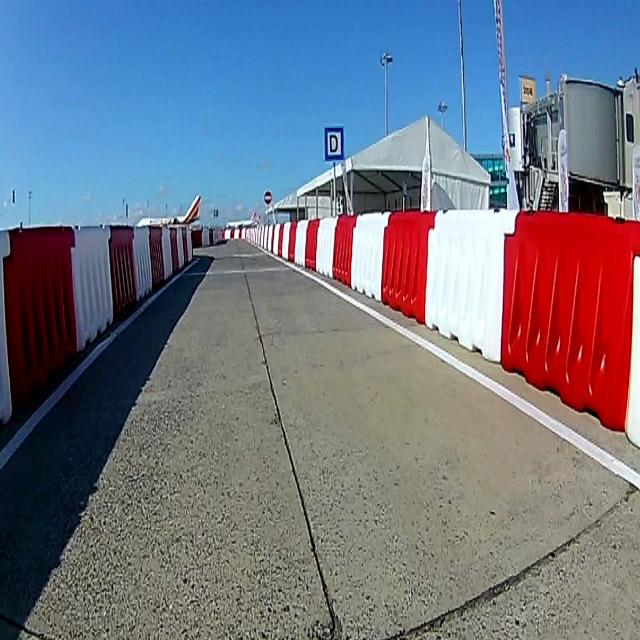durak: (324, 124, 346, 162)
girisyok: (263, 189, 272, 203)
